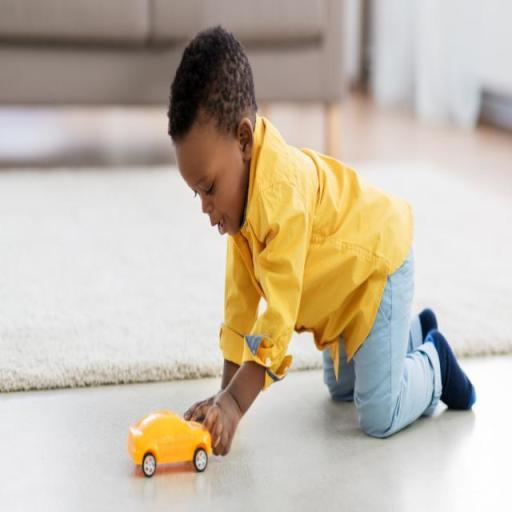baby: (166, 26, 478, 456)
